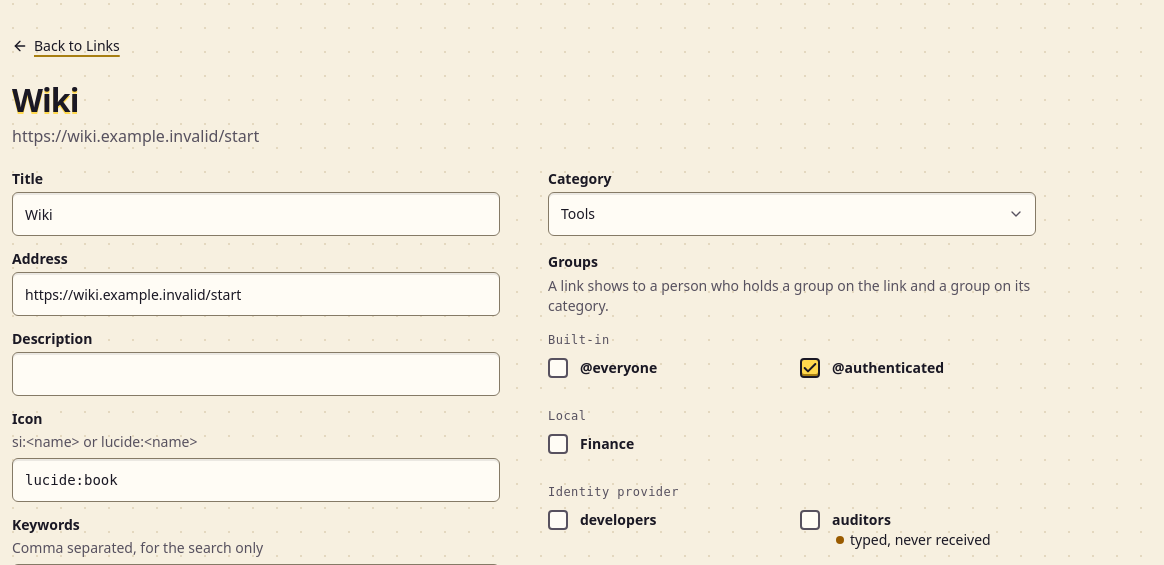
Test case: LinkPage › after a conflict, shows the stored availability check when it differs
Expected: the heading "Wiki" is shown, [12,78,78,121]
Replace the text in the field labelled "Title" with "Team wiki". click: [256, 214]
box: [12,192,500,236]
(page scrolled)
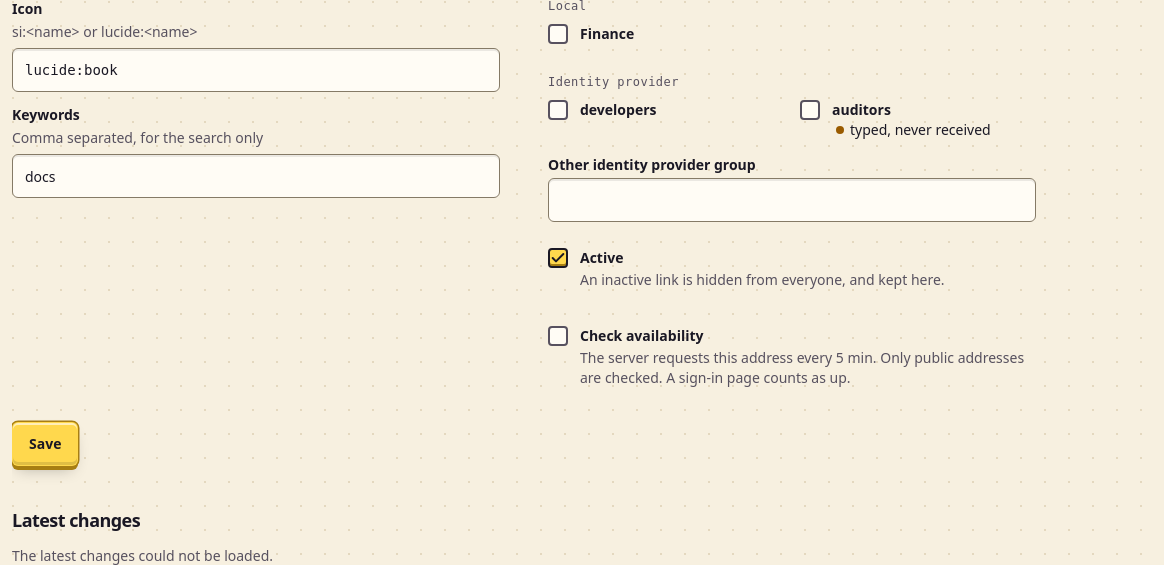
Click the button "Save". click: [45, 444]
box: [12,422,78,466]
(page scrolled)
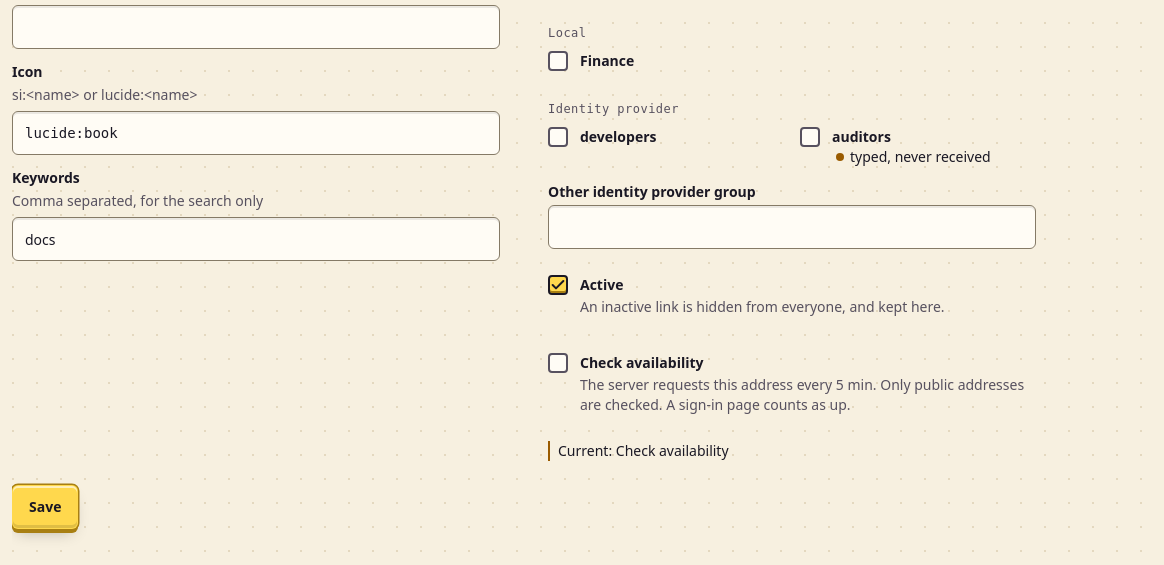
Now the text "Current: Check availability" is shown, box [548,441,1036,461]
Click the checkbox labelled "Check availability". click: [558, 363]
box: [548,353,568,373]
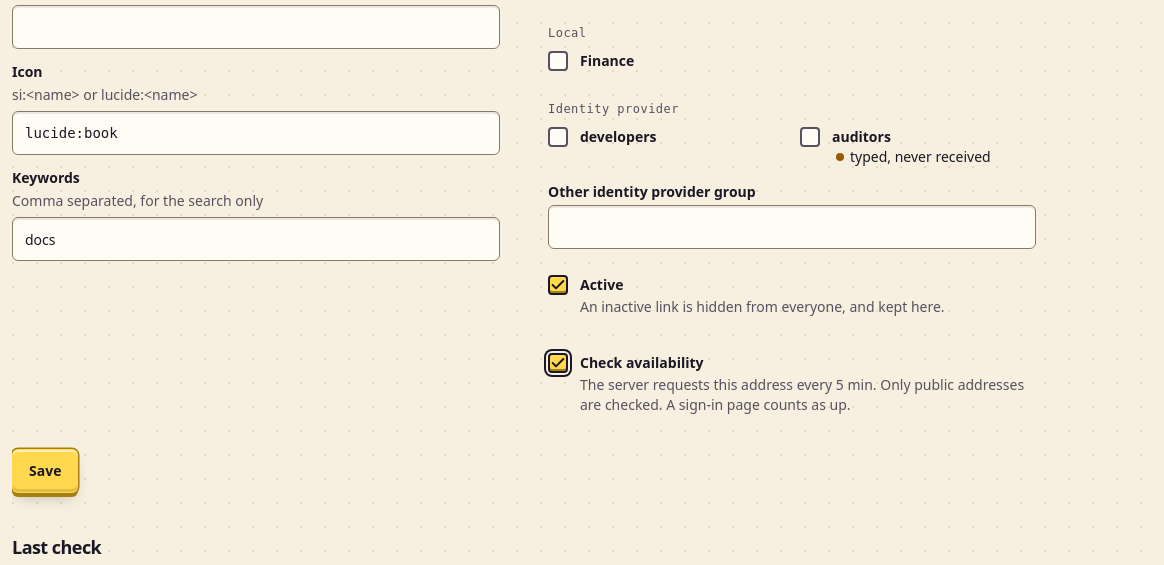
Now the text "Current: Check availability" is gone
